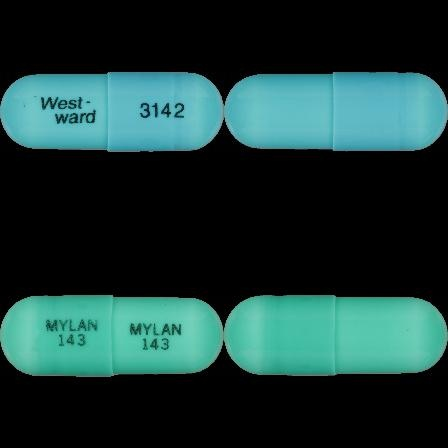0440-1481: (0, 0, 224, 224)
